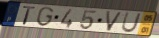4: (60, 8, 74, 29)
5: (79, 9, 98, 30)
G: (35, 6, 55, 27)
T: (21, 5, 37, 26)
U: (120, 12, 143, 34)
V: (104, 10, 124, 32)
